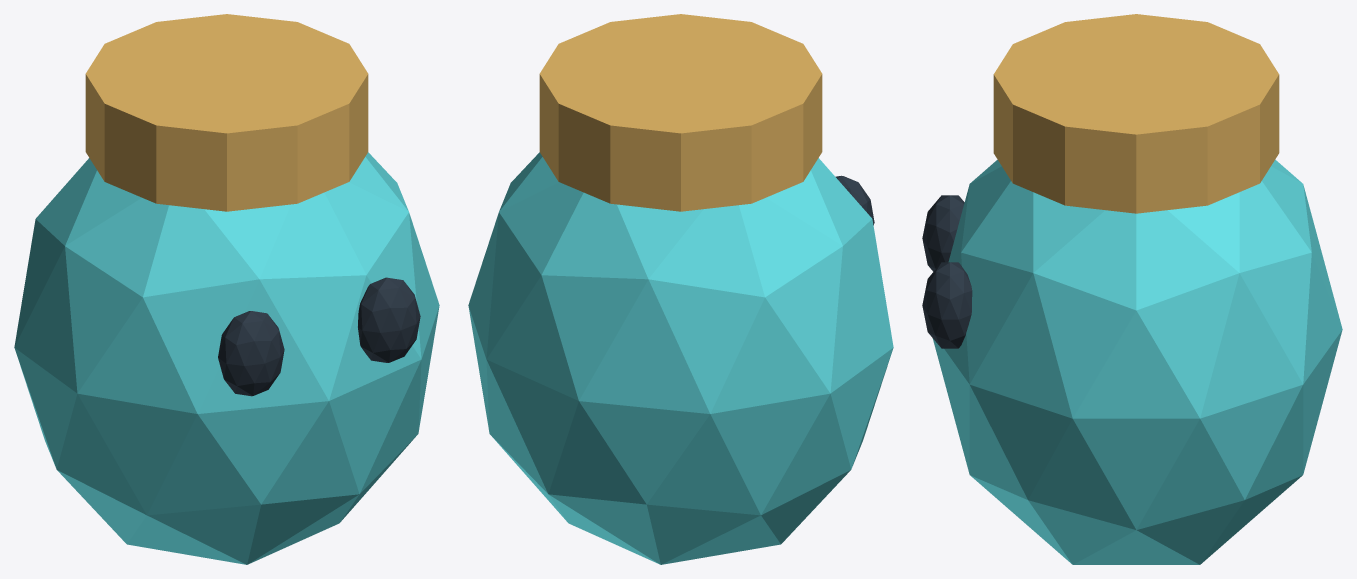
The picture shows the model from 3 angles, left to right: view 1: azimuth 30°, elevation 25°; view 2: azimuth 150°, elevation 25°; view 3: azimuth 270°, elevation 25°; orthographic projection.
Parts seen in each view (by area): view 1: ai_export; view 2: ai_export; view 3: ai_export.
Boxes of the visible parts, x1=… form: ai_export: x1=14, y1=14, x2=439, y2=564; ai_export: x1=468, y1=14, x2=893, y2=564; ai_export: x1=922, y1=14, x2=1342, y2=564.
Size of the model in its own units: 0.5326 by 0.675 by 0.53.
